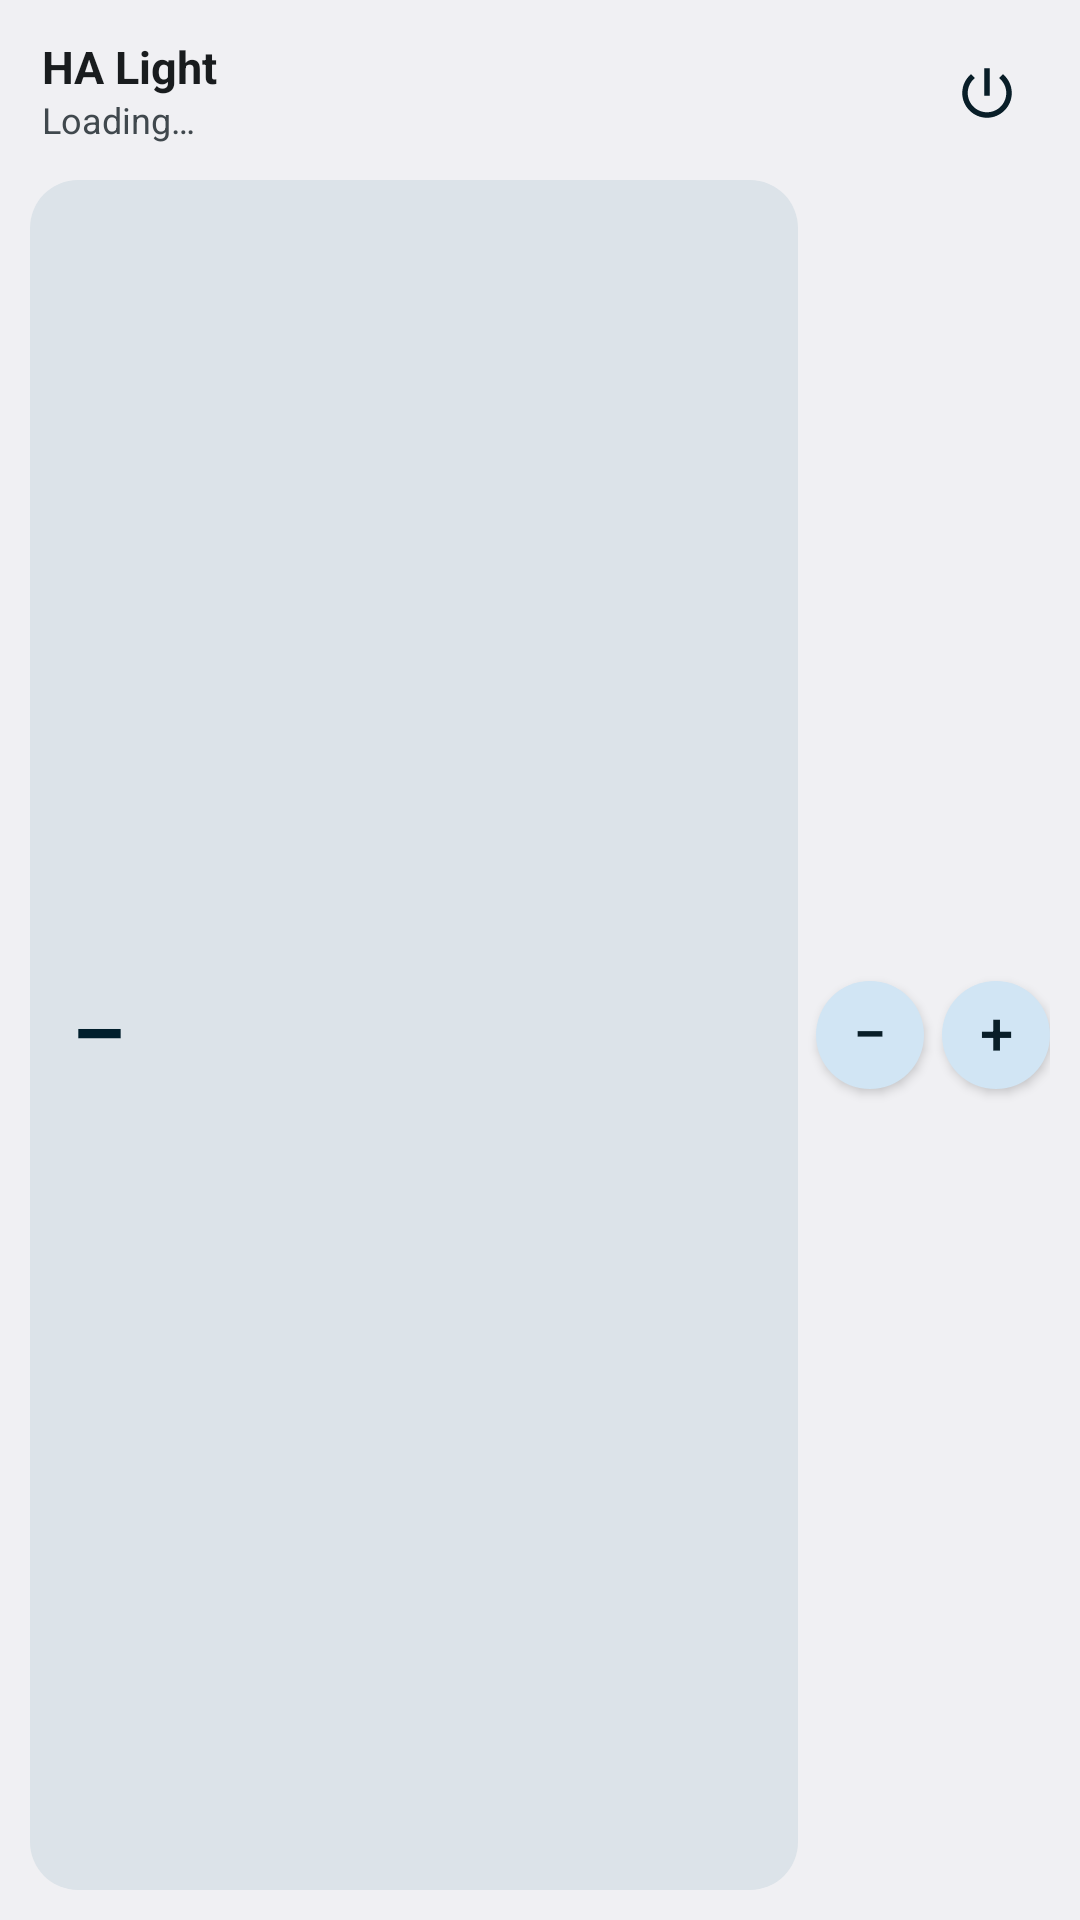

Where to tap for icons on this 1080 x 1920 app screen, as (x=x, y=y):
Turn light on: (x=987, y=93)
